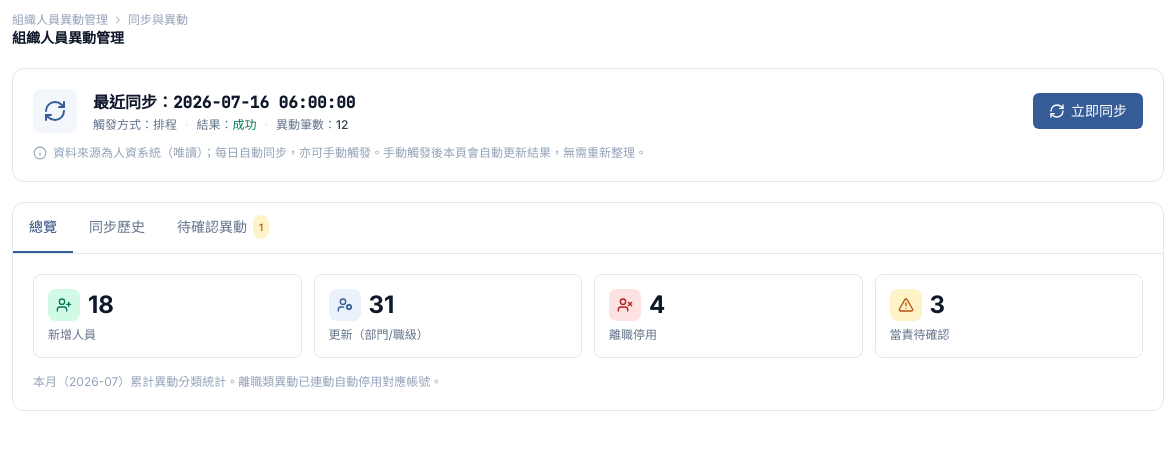
OrgSyncPage — 待確認異動清單（F006） › TS-F006-066 CLOSED_DEPT_PERSON 卡片：人員/部門/關閉日期，且無 before-after 差異區塊
Click the button "待確認異動 1".
click(223, 228)  # box [161,203,285,253]
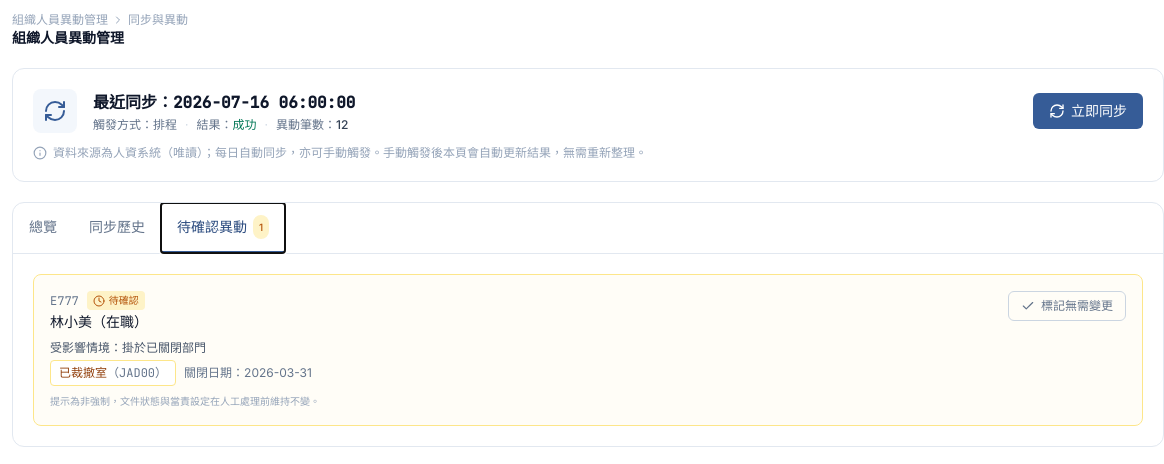
expect the text "E777" is shown: met, box [50,292,79,308]
expect the text "林小美（在職）" is shown: met, box [50,313,148,330]
expect the text "已裁撤室（JAD00）" is shown: met, box [50,360,176,386]
